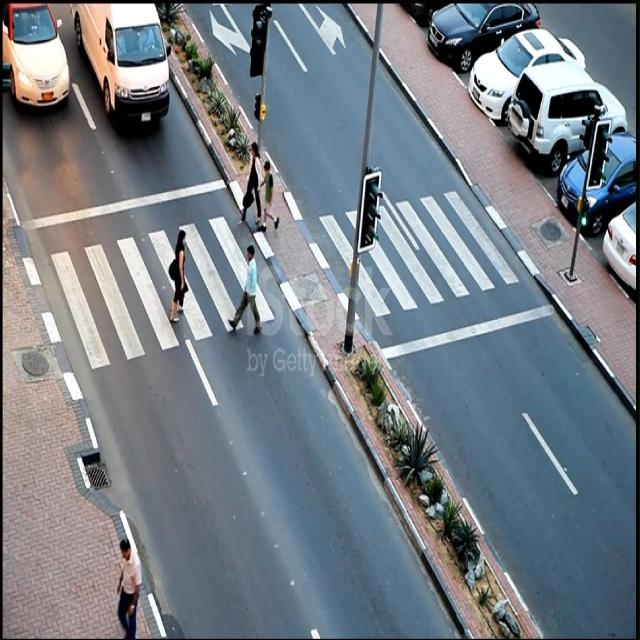pedestrian: (229, 245, 260, 332), (168, 231, 189, 321), (241, 142, 261, 219), (262, 161, 278, 229)
